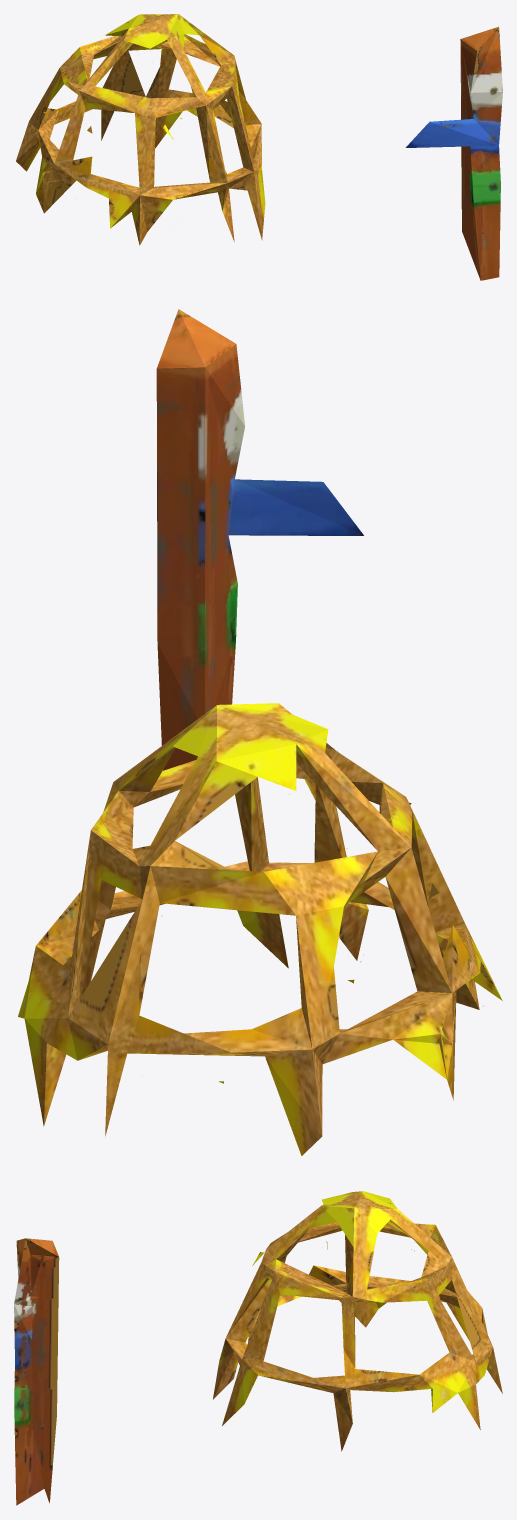
The model's file is haystack.glb.
3 renders of one model, top to bottom at view 1: azimuth 30°, elevation 25°; view 2: azimuth 150°, elevation 25°; view 3: azimuth 270°, elevation 25°, orthographic. The views are drawn at different scales.
Visible parts, largest first — view 1: haystack; view 2: haystack; view 3: haystack.
Part boxes in pixels (x1,y1,x2,y2): haystack: [16, 14, 502, 280]; haystack: [18, 309, 502, 1155]; haystack: [14, 1191, 502, 1505].
Bounding box in the file's own units: 3.01 × 2.39 × 3.86.
Materials: 1 (1 with a texture image).
